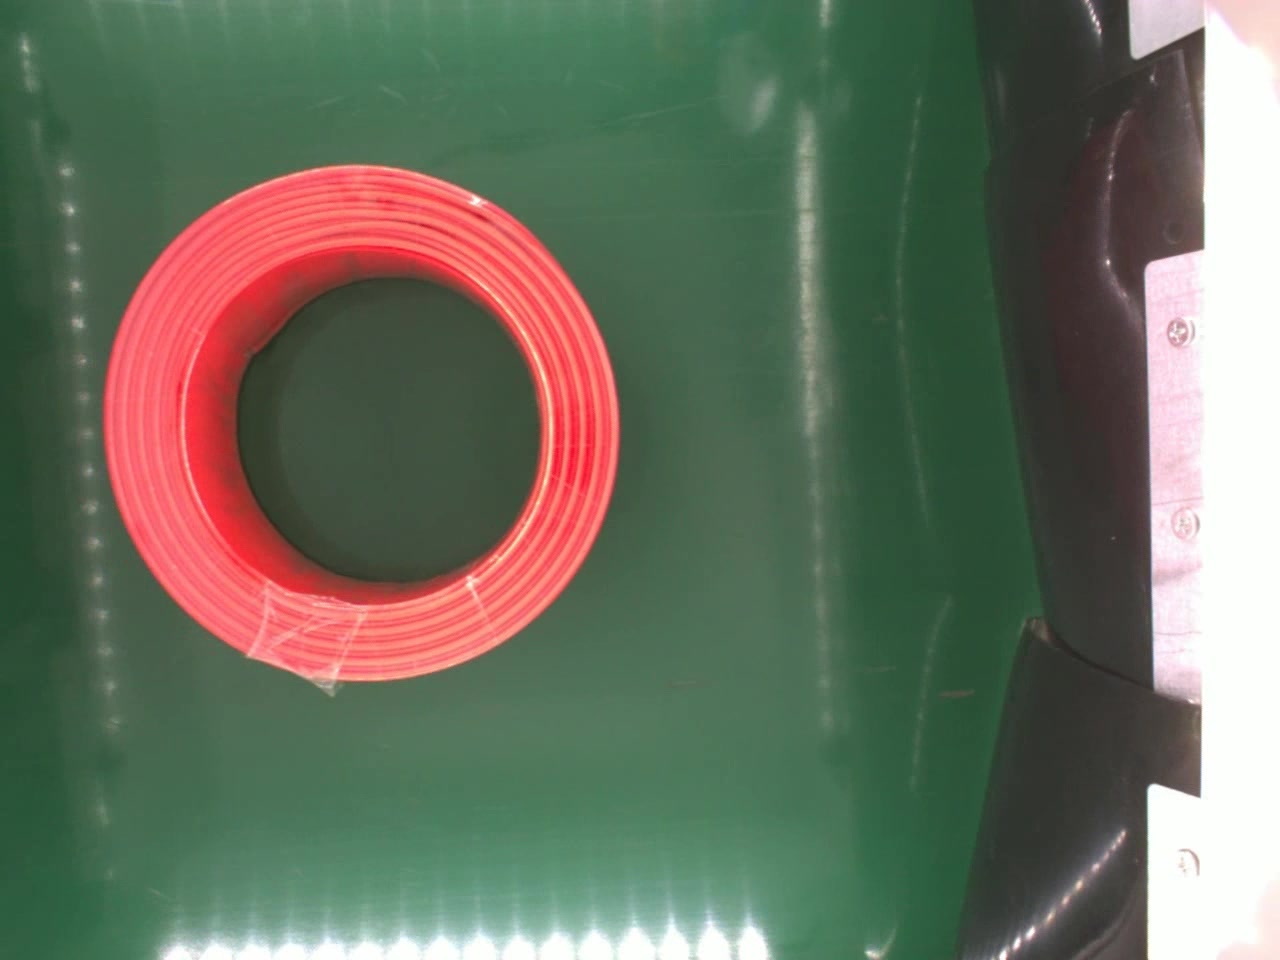red: (98, 163, 621, 684)
